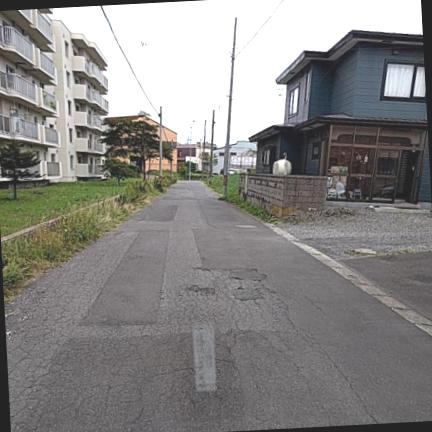Road: (6, 182, 431, 431)
